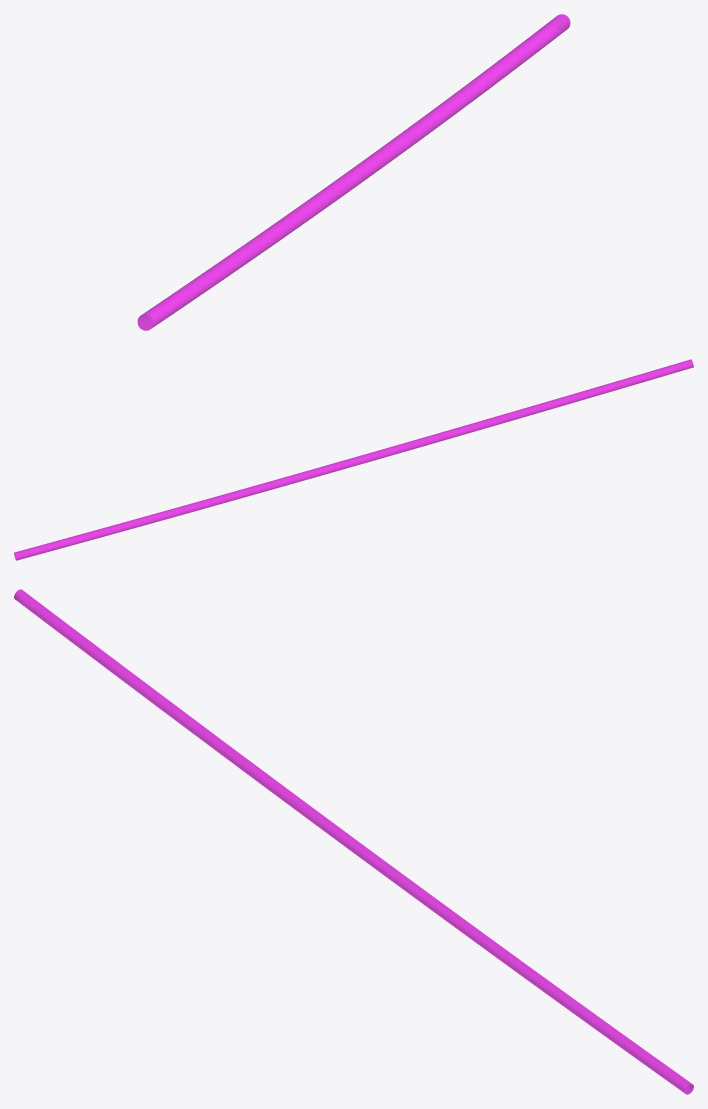
Rendered from Event_419990632_electron_0.fbx.
3 renders of one model, top to bottom at view 1: azimuth 30°, elevation 25°; view 2: azimuth 150°, elevation 25°; view 3: azimuth 270°, elevation 25°, orthographic. The views are drawn at different scales.
Visible parts, largest first — view 1: Model; view 2: Model; view 3: Model.
Part boxes in pixels (left/top/right/bottom): Model: left=137, top=14, right=570, bottom=330; Model: left=14, top=359, right=693, bottom=560; Model: left=14, top=589, right=693, bottom=1094.
Bounding box in the file's own units: 2.43 × 0.7123 × 2.24.
